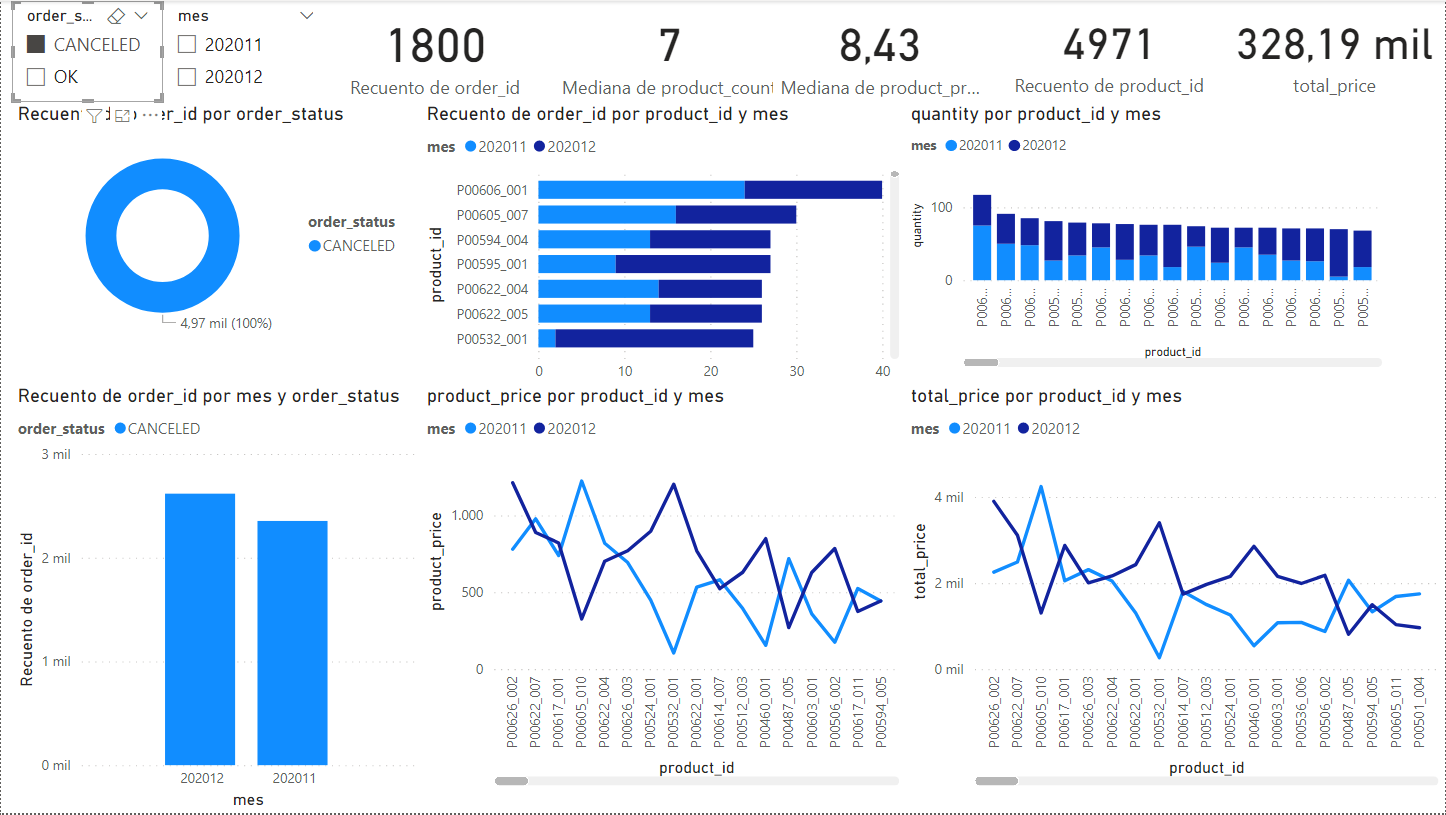

What the dashboard file says about the page in this screenshot:
{"tool":"powerbi","page":{"name":"Página 1","canvas":[1280,720],"ordinal":0},"visuals":[{"type":"slicer","fields":{"Values":["shopee tbl_product_month.order_status"]},"box":[10.2,0,133.5,89.9],"z":0},{"type":"donutChart","fields":{"Category":["shopee tbl_product_month.order_status"],"Y":["CountNonNull(shopee tbl_product_month.order_id)"]},"box":[10.2,89.9,362.4,217.8],"z":1000},{"type":"columnChart","fields":{"Category":["shopee tbl_product_month.mes"],"Y":["CountNonNull(shopee tbl_product_month.order_id)"],"Series":["shopee tbl_product_month.order_status"]},"box":[10.2,339.2,362.4,380.9],"z":2000},{"type":"barChart","fields":{"Category":["shopee tbl_product_month.product_id"],"Y":["CountNonNull(shopee tbl_product_month.order_id)"],"Series":["shopee tbl_product_month.mes"]},"box":[372.6,89.9,429.1,269.7],"z":3000},{"type":"lineChart","fields":{"Y":["Sum(shopee tbl_product_month.product_price)"],"Category":["shopee tbl_product_month.product_id"],"Series":["shopee tbl_product_month.mes"]},"box":[372.6,339.2,429.1,360.6],"z":4000},{"type":"columnChart","fields":{"Y":["Sum(shopee tbl_product_month.quantity)"],"Category":["shopee tbl_product_month.product_id"],"Series":["shopee tbl_product_month.mes"]},"box":[801.7,89.9,428.2,240.1],"z":5000},{"type":"lineChart","fields":{"Y":["Sum(shopee tbl_product_month.total_price)"],"Category":["shopee tbl_product_month.product_id"],"Series":["shopee tbl_product_month.mes"]},"box":[801.7,339.2,478.3,360.6],"z":6000},{"type":"card","fields":{"Values":["Sum(shopee tbl_product_month.total_price)"]},"box":[1084.4,0,195.6,89.9],"z":6001},{"type":"card","fields":{"Values":["Median(shopee vw_month_orders.product_count)"]},"box":[485.7,0,213.2,89.9],"z":6002},{"type":"card","fields":{"Values":["Median(shopee tbl_product_month.product_price)"]},"box":[685,0,190,89.9],"z":6003},{"type":"card","fields":{"Values":["CountNonNull(shopee tbl_product_month.product_id)"]},"box":[875,0,215,89.9],"z":6004},{"type":"card","fields":{"Values":["Count(shopee tbl_product_month.order_id)"]},"box":[290.1,0,190,89.9],"z":6005},{"type":"slicer","fields":{"Values":["shopee tbl_product_month.mes"]},"box":[143.7,0,146.4,89.9],"z":6006}]}

Visuals, with their boxes in screenshot pixels (x1, y1, x2, y2), scaled from the page's 1280x720 canvas onto the 1446x815 screenshot:
slicer - shopee tbl_product_month.order_status: {"x1": 12, "y1": 0, "x2": 162, "y2": 102}
donutChart - shopee tbl_product_month.order_status x CountNonNull(shopee tbl_product_month.order_id): {"x1": 12, "y1": 102, "x2": 421, "y2": 348}
columnChart - shopee tbl_product_month.mes x CountNonNull(shopee tbl_product_month.order_id): {"x1": 12, "y1": 384, "x2": 421, "y2": 814}
barChart - shopee tbl_product_month.product_id x CountNonNull(shopee tbl_product_month.order_id): {"x1": 421, "y1": 102, "x2": 906, "y2": 407}
lineChart - Sum(shopee tbl_product_month.product_price) x shopee tbl_product_month.product_id: {"x1": 421, "y1": 384, "x2": 906, "y2": 792}
columnChart - Sum(shopee tbl_product_month.quantity) x shopee tbl_product_month.product_id: {"x1": 906, "y1": 102, "x2": 1389, "y2": 374}
lineChart - Sum(shopee tbl_product_month.total_price) x shopee tbl_product_month.product_id: {"x1": 906, "y1": 384, "x2": 1445, "y2": 792}
card - Sum(shopee tbl_product_month.total_price): {"x1": 1225, "y1": 0, "x2": 1445, "y2": 102}
card - Median(shopee vw_month_orders.product_count): {"x1": 549, "y1": 0, "x2": 790, "y2": 102}
card - Median(shopee tbl_product_month.product_price): {"x1": 774, "y1": 0, "x2": 988, "y2": 102}
card - CountNonNull(shopee tbl_product_month.product_id): {"x1": 988, "y1": 0, "x2": 1231, "y2": 102}
card - Count(shopee tbl_product_month.order_id): {"x1": 328, "y1": 0, "x2": 542, "y2": 102}
slicer - shopee tbl_product_month.mes: {"x1": 162, "y1": 0, "x2": 328, "y2": 102}
